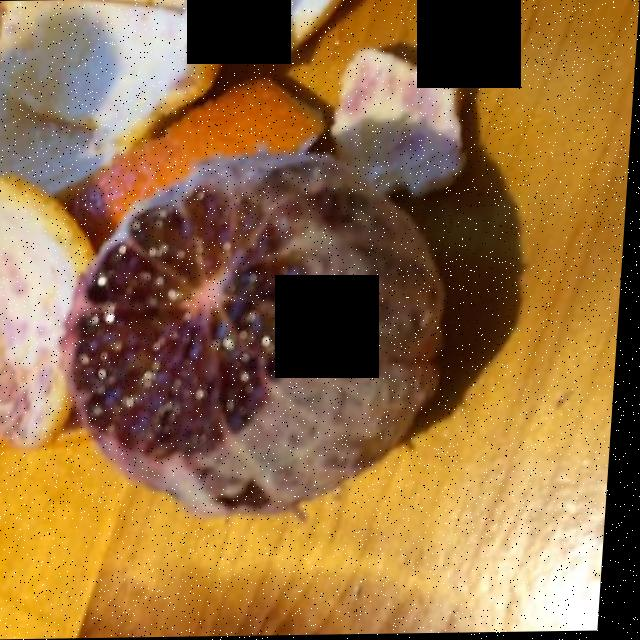orange: (70, 152, 451, 508)
